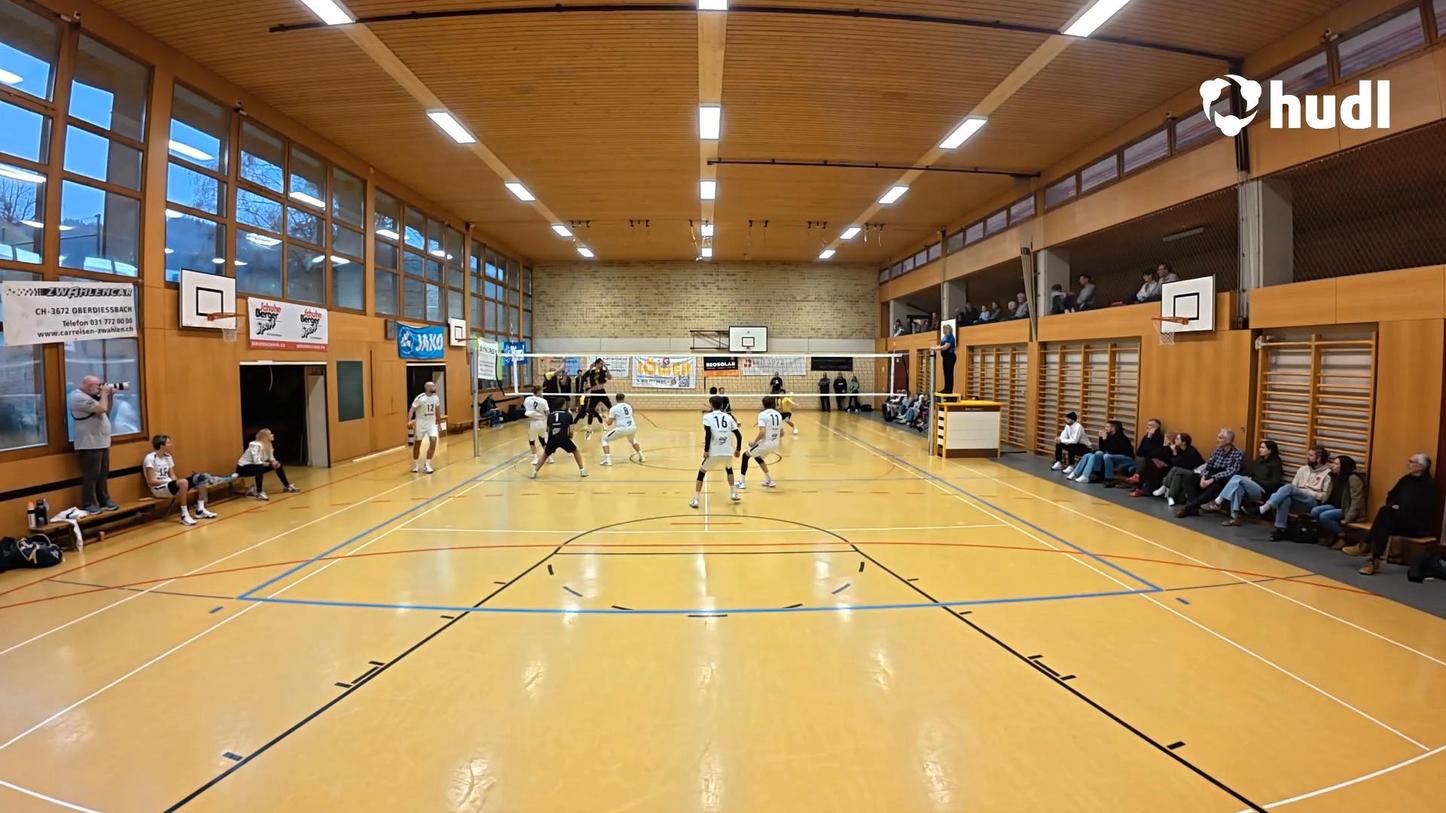Dig: (764, 381, 799, 434)
Player: (692, 397, 743, 507), (736, 393, 789, 494), (530, 396, 588, 480), (602, 389, 645, 465), (410, 382, 444, 476), (734, 399, 768, 488), (581, 353, 614, 432), (522, 388, 553, 472), (567, 384, 604, 432), (538, 353, 564, 408), (707, 383, 732, 411)
ball: (785, 391, 799, 402)
